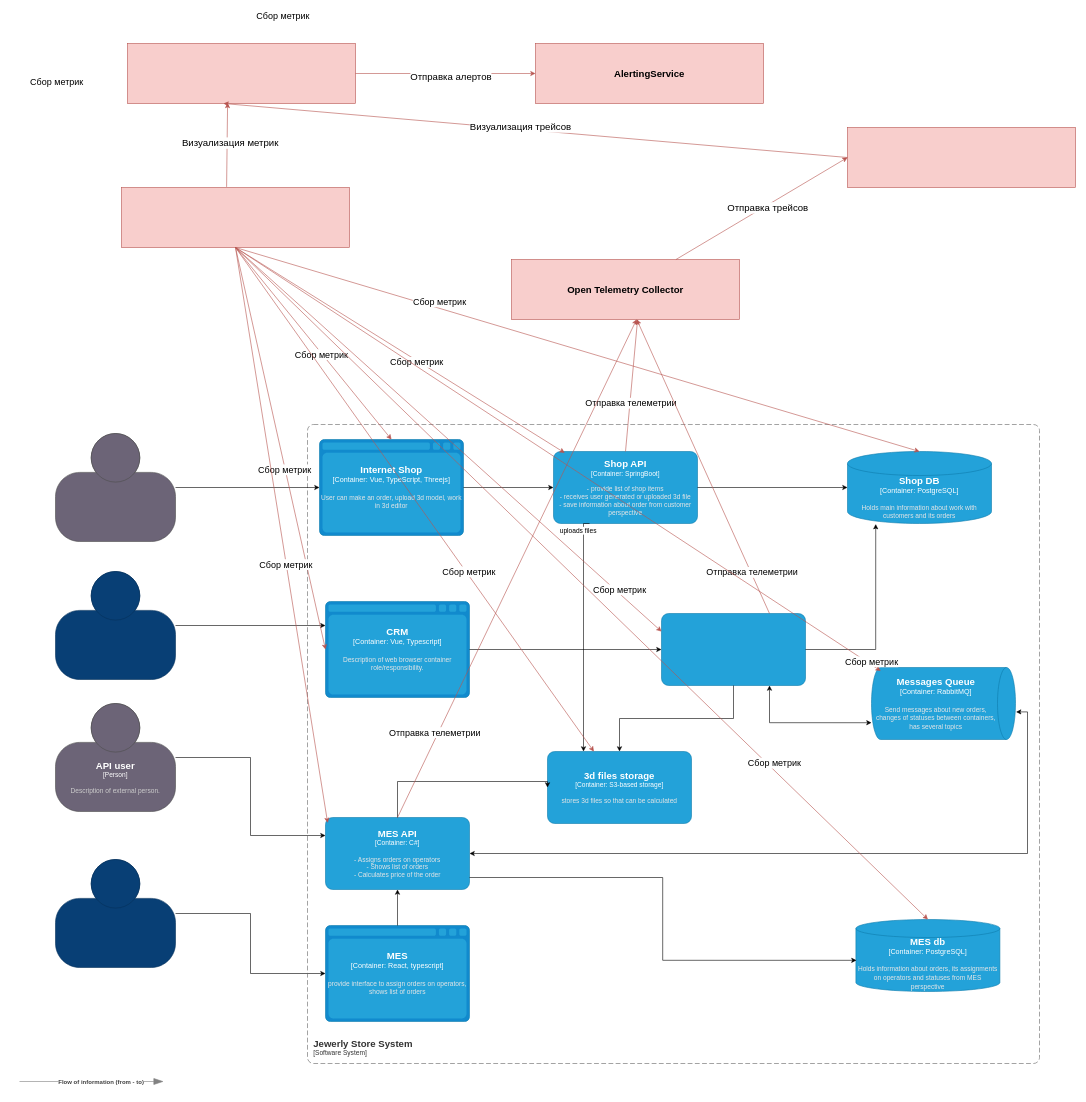
Some shapes in this 1086 by 1102 pixel diagram are drawn without their labels. Each missing label, with the centre of its shape:
"CRM API [Container: SpringBoot] Description of container role/responsibility." goes at (733,649).
"Customer [Person] Description of external person." goes at (115,487).
"Grafana" goes at (241,73).
"Jaeger" goes at (961,157).
"Operator [Person] Takes order in work, manufactures jewerly" goes at (115,913).
"Prometheus" goes at (235,217).
"Seller [Person] Operates with order, confirms manufacturing for the user" goes at (115,625).
